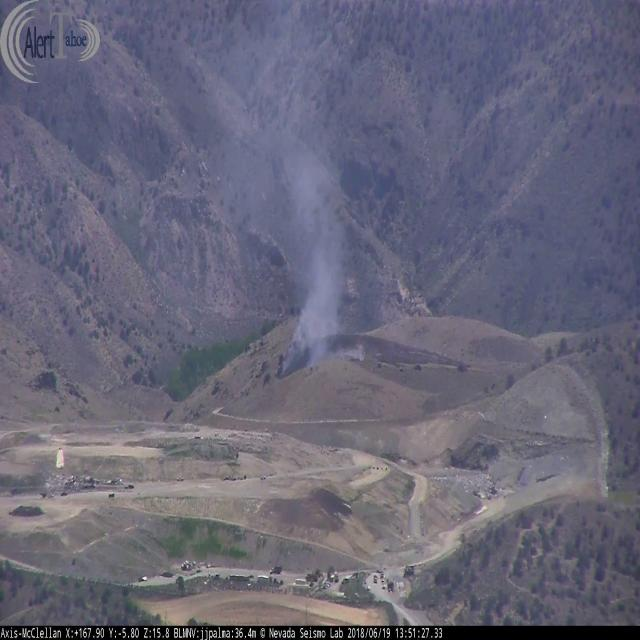smoke: (235, 0, 372, 376)
